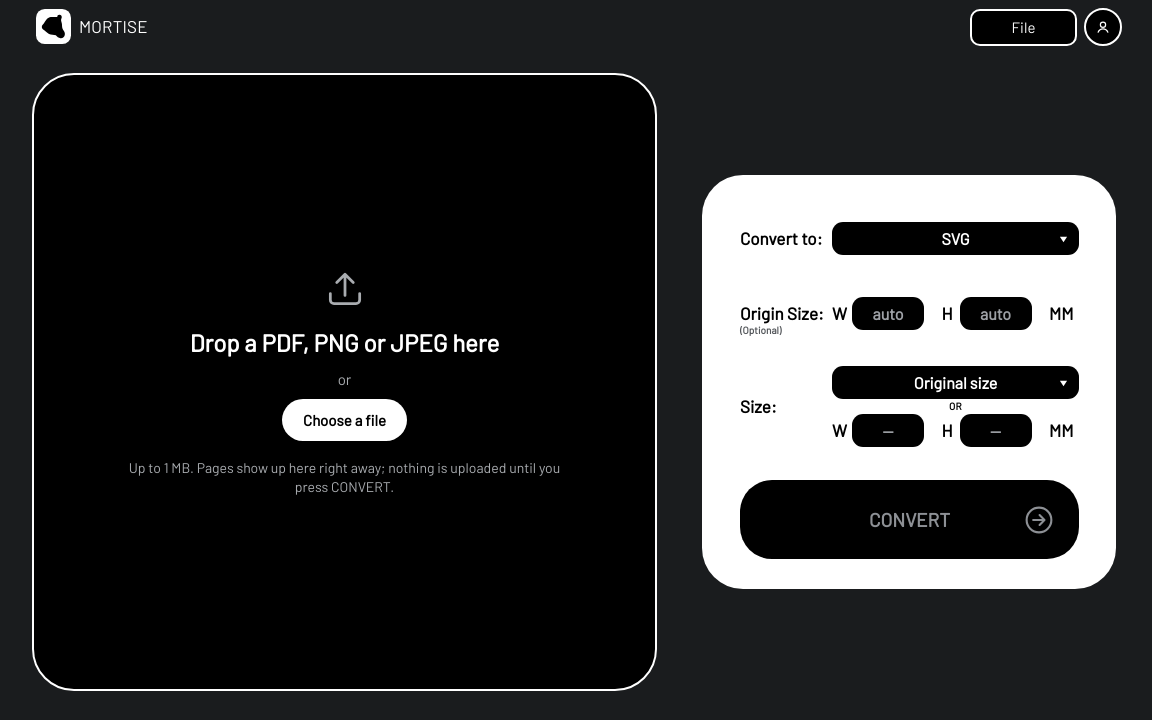
Scenario: App › switches the output size to Custom when W or H is typed
In the field named "Output width in millimetres": (888, 430) 852,414 -> 924,447, type "300"
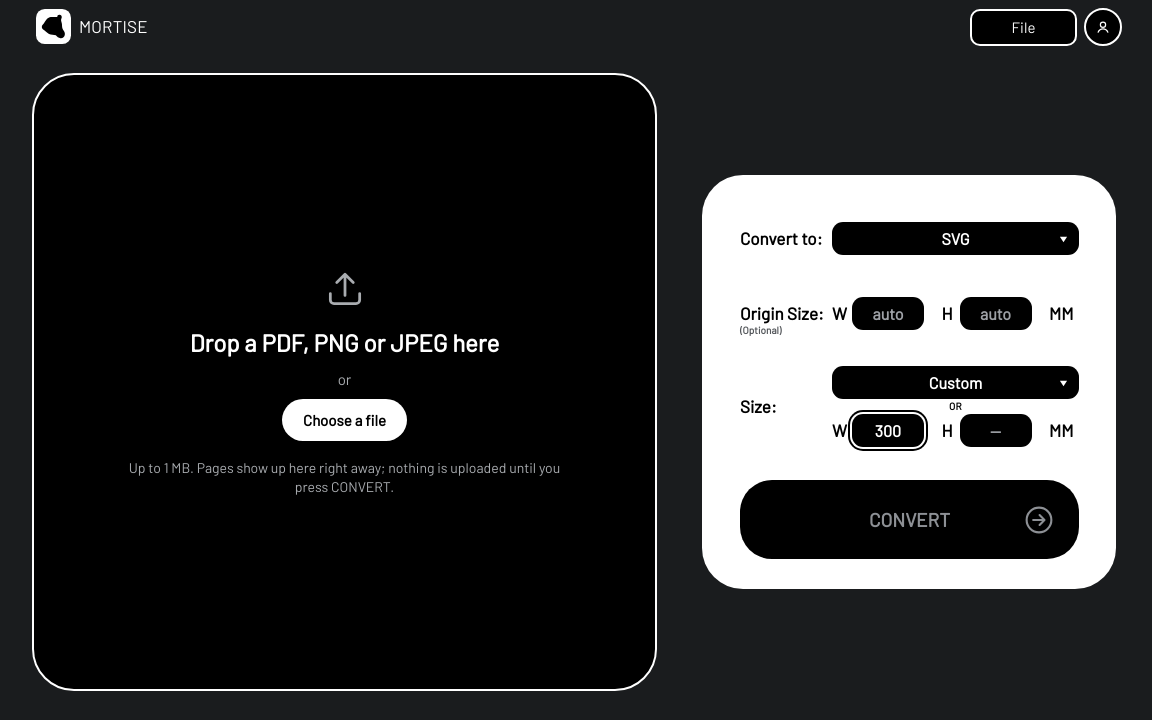
Expected: the dropdown named "Output page size" shows "Custom", 832,366 -> 1079,399
Press Tab
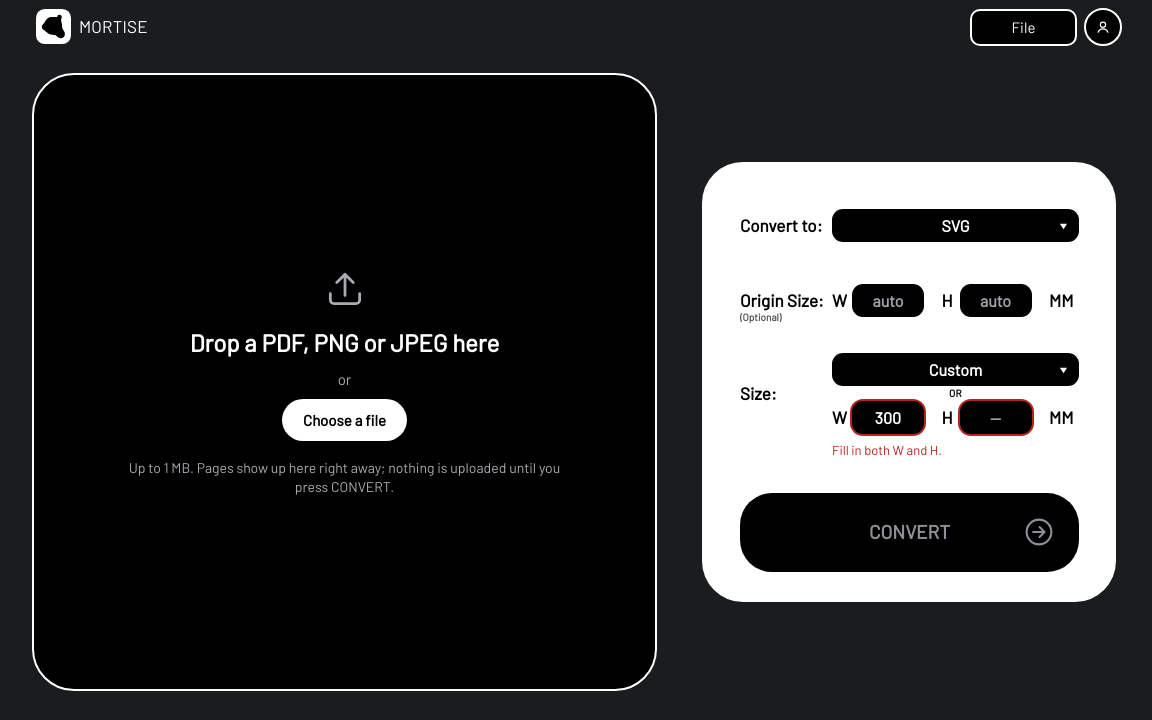
Press Tab
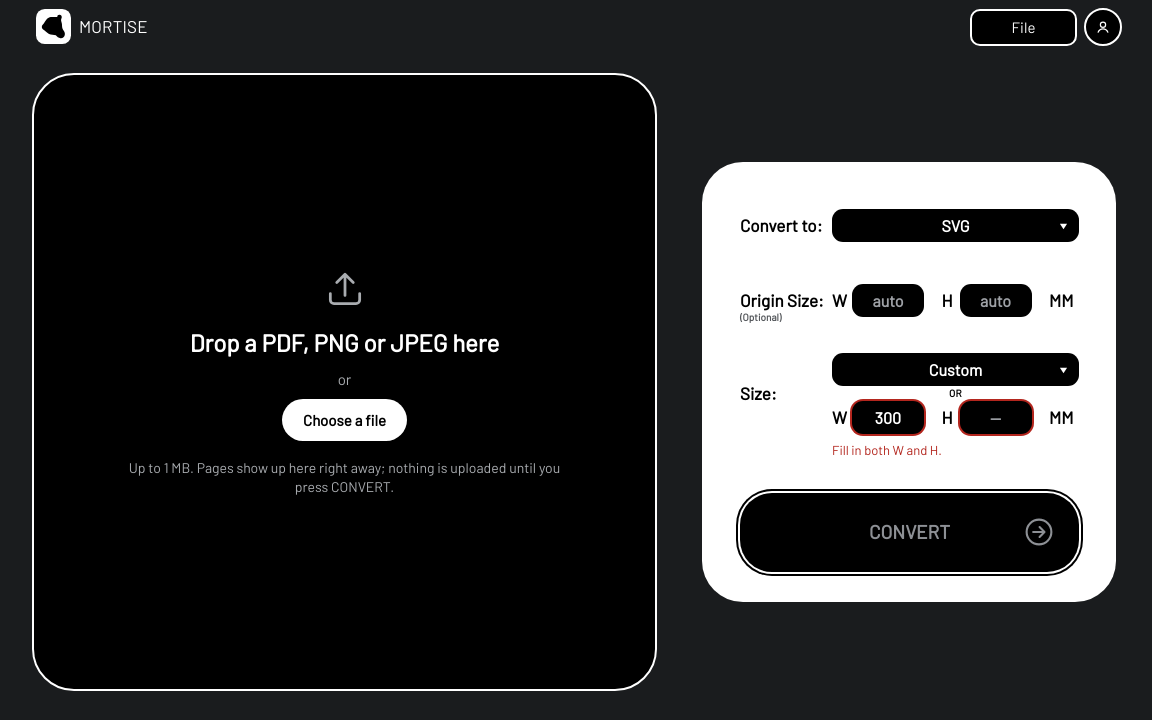
Expected: the text "Fill in both W and H." is shown, 832,442 -> 942,458
In the field named "Output height in millimetres": (996, 418) 960,401 -> 1032,434, type "200"
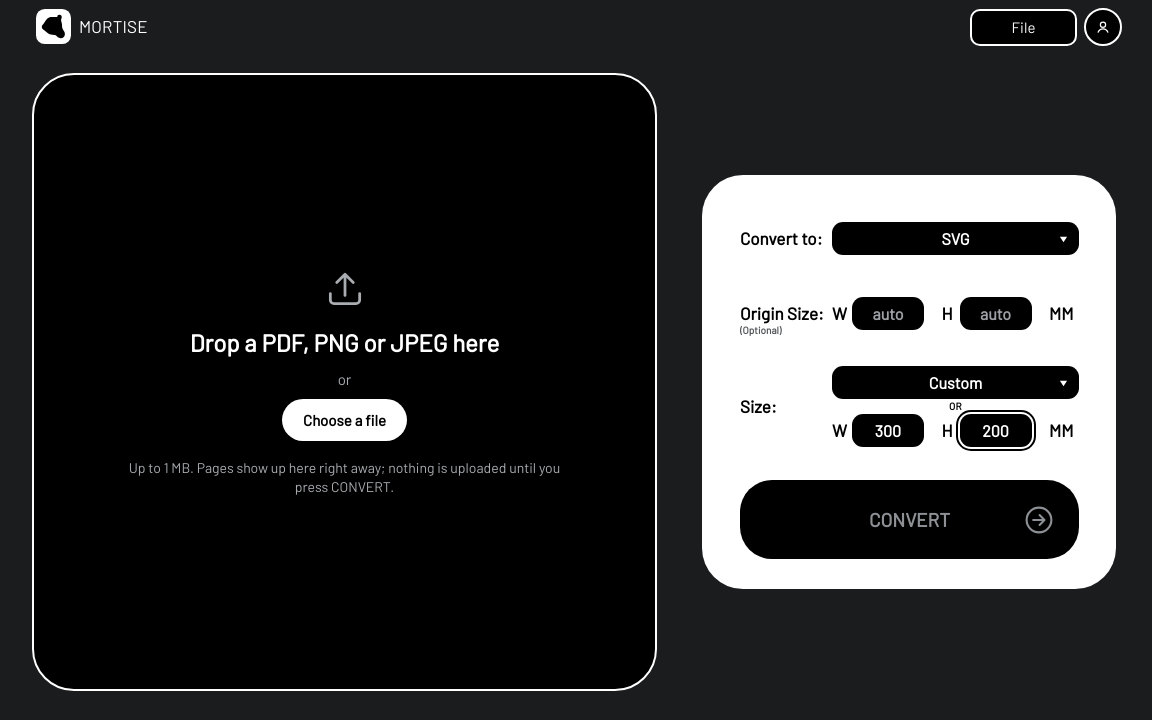
Expected: the text "Fill in both W and H." is gone
Select "A3" in the dropdown named "Output page size": (956, 382) 832,366 -> 1079,399
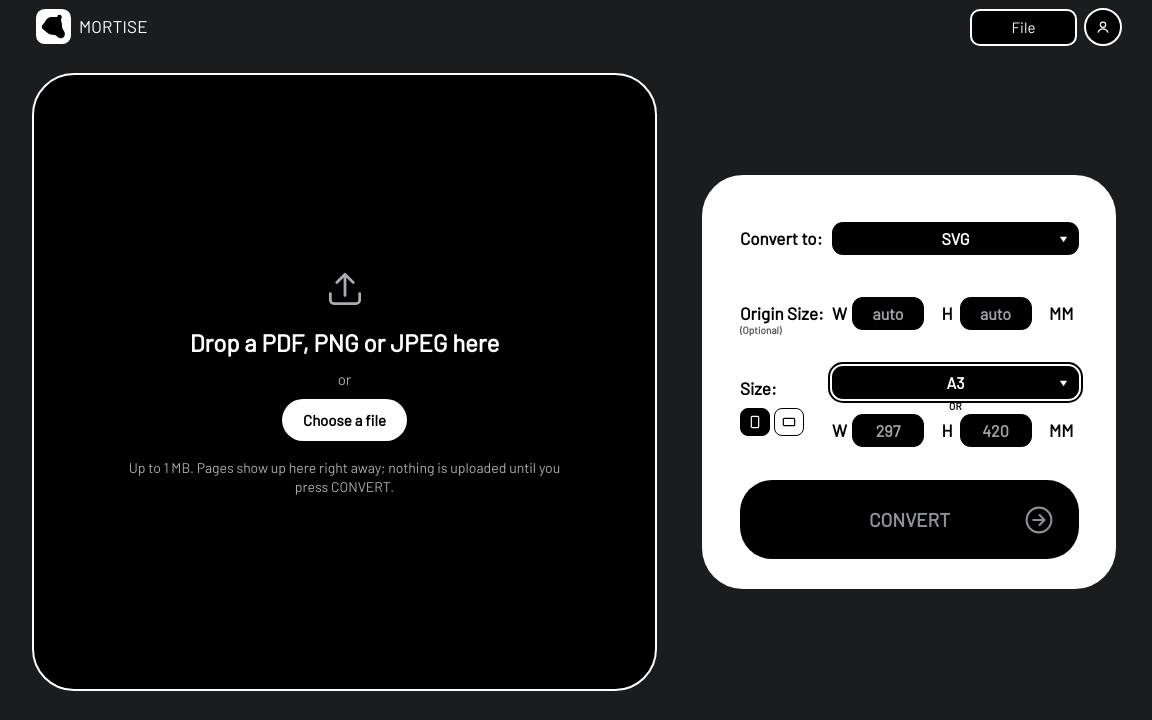
Expected: the field named "Output width in millimetres" is empty, 852,414 -> 924,447
Expected: the element named "Orientation" is shown, 740,408 -> 804,436
